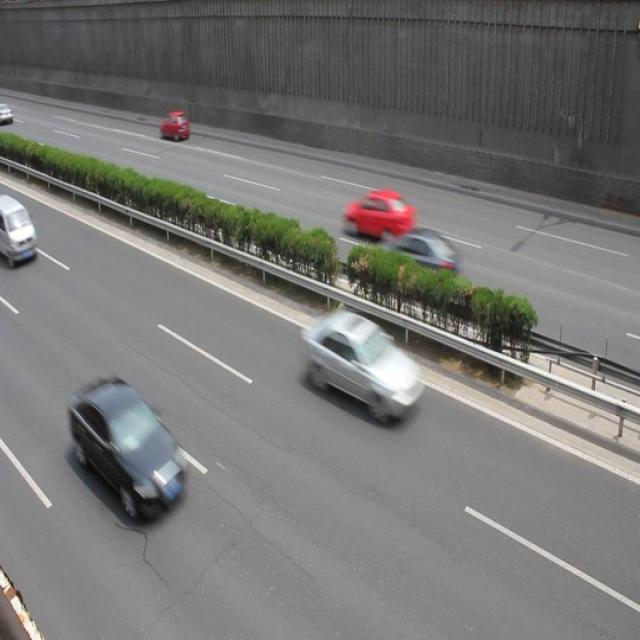car: (68, 378, 188, 522), (303, 306, 425, 425), (374, 227, 461, 296), (341, 190, 417, 246), (1, 193, 38, 268), (160, 108, 190, 142)
